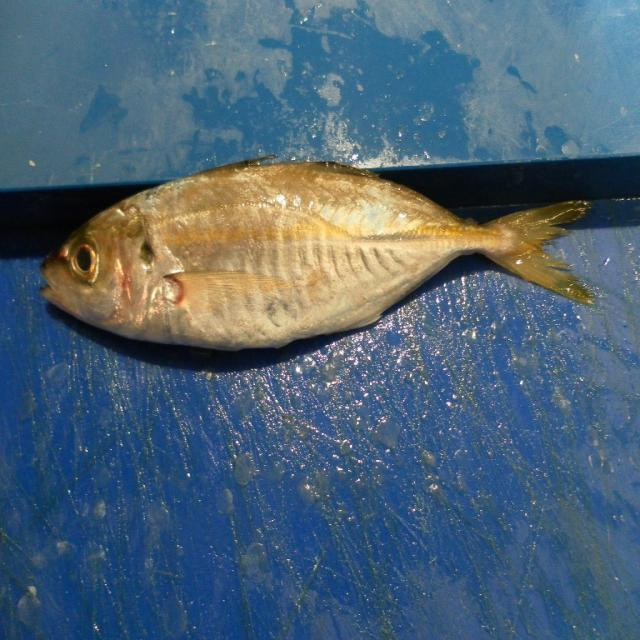Hourse-Mackerel-istavrit-: (41, 161, 598, 354)
